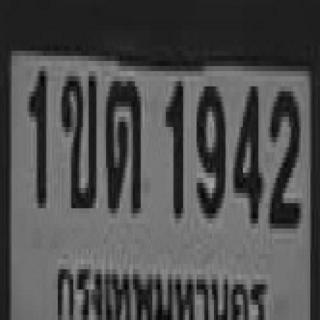A02: (60, 71, 94, 203)
A21: (104, 76, 139, 208)
N01: (27, 66, 44, 203), (164, 76, 181, 213)
N02: (268, 86, 299, 224)
N04: (231, 81, 260, 218)
N09: (195, 81, 224, 213)
P04: (51, 255, 274, 320)
